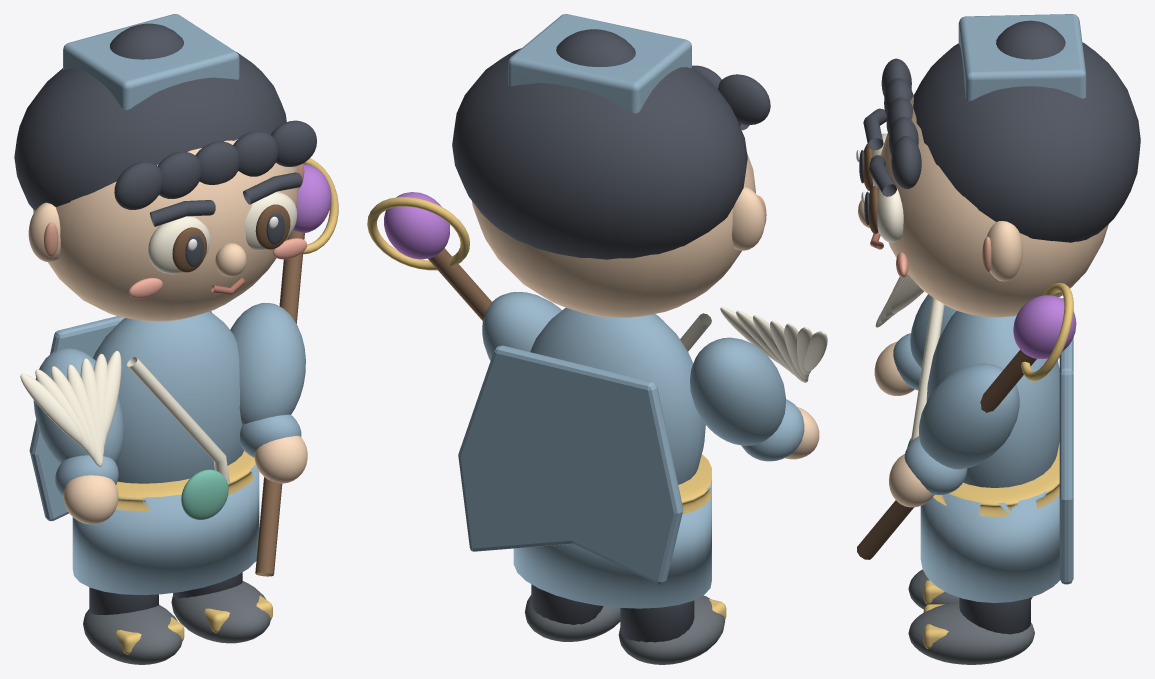
File: r_villager.fbx
The picture shows the model from 3 angles, left to right: view 1: azimuth 30°, elevation 25°; view 2: azimuth 150°, elevation 25°; view 3: azimuth 270°, elevation 25°; orthographic projection. The views are drawn at different scales.
Parts seen in each view (by area): view 1: hair_mass, face, body, robe_skirt, scholar_crown, sleeve, boot, boot.001, cape, spell_staff, sleeve.001, belt (+35 smaller); view 2: hair_mass, cape, face, body, robe_skirt, scholar_crown, sleeve.001, sleeve, boot, spell_gem, leg, staff_ring (+9 smaller); view 3: hair_mass, face, robe_skirt, body, scholar_crown, sleeve, boot.001, cape, spell_gem, belt, spell_staff, hair_bun (+20 smaller).
Part boxes in pixels (left/top/right/bottom): hair_mass: left=14, top=52, right=286, bottom=210; face: left=33, top=139, right=298, bottom=321; body: left=93, top=311, right=243, bottom=483; robe_skirt: left=72, top=464, right=259, bottom=594; scholar_crown: left=63, top=14, right=239, bottom=109; sleeve: left=230, top=303, right=305, bottom=424; boot: left=83, top=604, right=182, bottom=664; boot.001: left=171, top=581, right=270, bottom=643; cape: left=29, top=311, right=211, bottom=521; spell_staff: left=255, top=230, right=304, bottom=576; sleeve.001: left=33, top=348, right=124, bottom=463; belt: left=116, top=450, right=258, bottom=510; hair_mass: left=452, top=48, right=747, bottom=259; cape: left=458, top=345, right=683, bottom=584; face: left=472, top=153, right=755, bottom=317; body: left=530, top=308, right=705, bottom=484; robe_skirt: left=513, top=478, right=711, bottom=608; scholar_crown: left=508, top=14, right=691, bottom=113; sleeve.001: left=690, top=337, right=785, bottom=445; sleeve: left=482, top=292, right=561, bottom=360; boot: left=618, top=595, right=725, bottom=664; spell_gem: left=384, top=192, right=449, bottom=259; leg: left=620, top=600, right=694, bottom=642; staff_ring: left=367, top=197, right=469, bottom=270; hair_mass: left=913, top=42, right=1140, bottom=242; face: left=877, top=93, right=1108, bottom=317; robe_skirt: left=920, top=491, right=1059, bottom=602; body: left=926, top=311, right=1059, bottom=487; scholar_crown: left=958, top=14, right=1086, bottom=101; sleeve: left=919, top=363, right=1019, bottom=469; boot.001: left=908, top=602, right=1034, bottom=664; cape: left=1059, top=298, right=1073, bottom=584; spell_gem: left=1013, top=295, right=1076, bottom=358; belt: left=933, top=442, right=1059, bottom=516; spell_staff: left=857, top=349, right=1036, bottom=559; hair_bun: left=996, top=20, right=1065, bottom=59.
Bounding box in the file's own units: 1.6 × 2.44 × 1.03.
